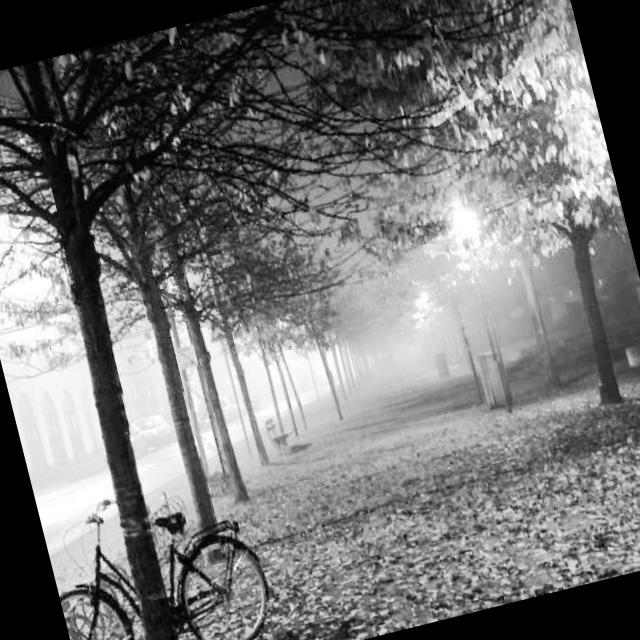Bicycle: (42, 483, 274, 640)
Tree: (0, 55, 213, 640), (479, 24, 640, 425), (86, 140, 235, 546)
